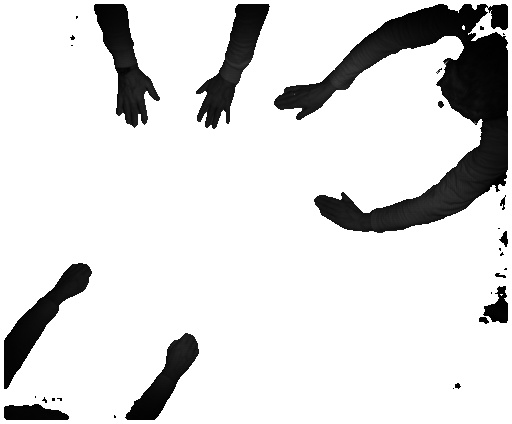hand: (192, 79, 239, 135), (112, 75, 159, 127), (312, 192, 365, 231), (272, 83, 329, 119), (166, 328, 199, 378), (56, 256, 95, 298)
